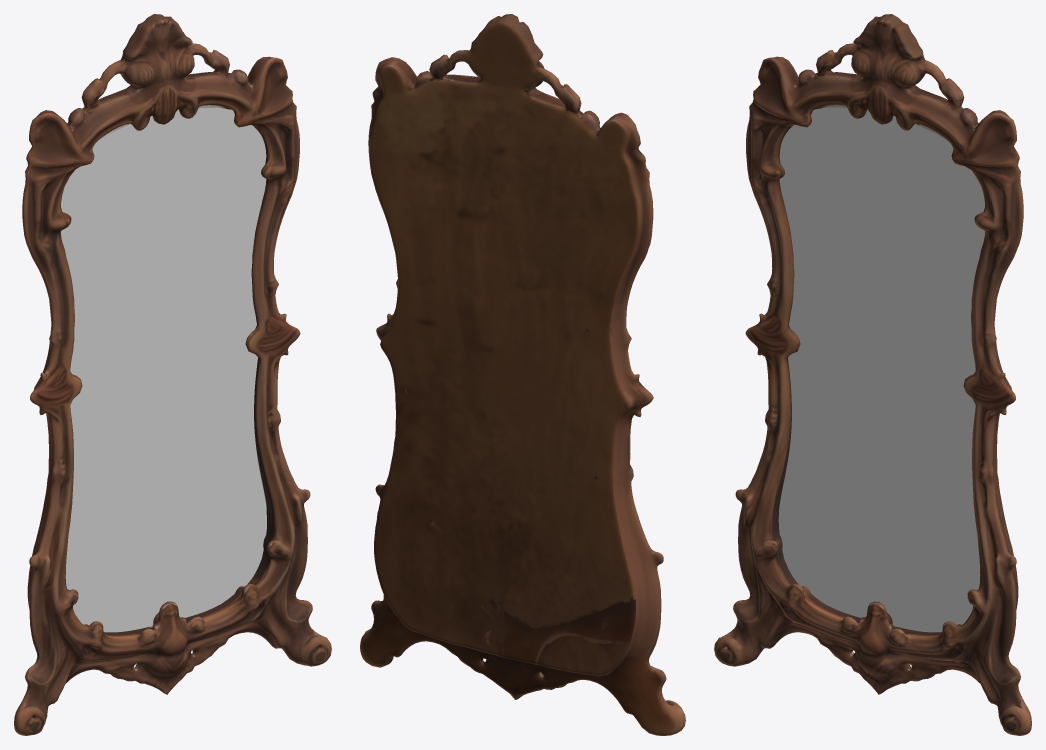
Rendered from AntiqueMirror.fbx.
3 renders of one model, left to right at view 1: azimuth 30°, elevation 25°; view 2: azimuth 150°, elevation 25°; view 3: azimuth 330°, elevation 25°, orthographic. The views are drawn at different scales.
Parts seen in each view (by area): view 1: Plane.005, model; view 2: model; view 3: Plane.005, model.
Part boxes in pixels (x1=…): Plane.005: x1=60, y1=107, x2=266, y2=632; model: x1=14, y1=14, x2=331, y2=735; model: x1=360, y1=14, x2=685, y2=735; Plane.005: x1=778, y1=107, x2=984, y2=632; model: x1=714, y1=14, x2=1031, y2=735.
Bounding box in the file's own units: 0.9356 × 1.91 × 0.128.
